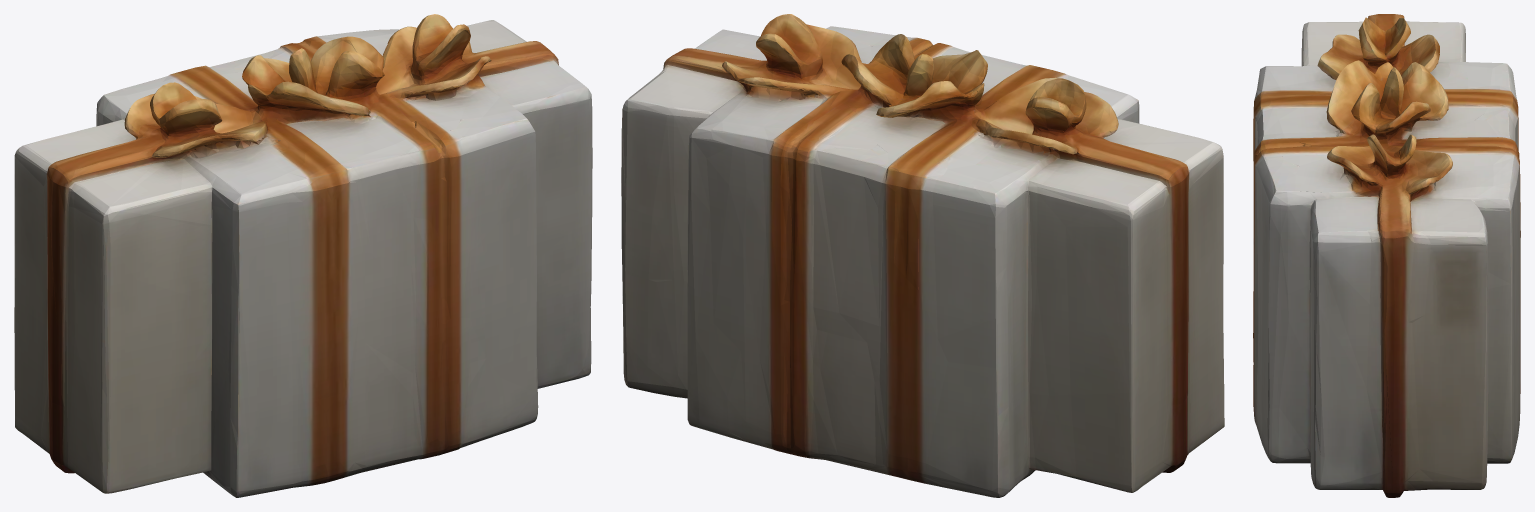
3 views of the same model, side by side, from view 1: azimuth 30°, elevation 25°; view 2: azimuth 150°, elevation 25°; view 3: azimuth 270°, elevation 25° (orthographic). The views are drawn at different scales.
Visible parts, largest first — view 1: geometry_0; view 2: geometry_0; view 3: geometry_0.
Part boxes in pixels (x1=…): geometry_0: x1=14, y1=14, x2=592, y2=497; geometry_0: x1=621, y1=14, x2=1224, y2=497; geometry_0: x1=1253, y1=14, x2=1520, y2=497.
Size of the model in its own units: 0.9924 by 0.7034 by 0.5105.
Materials: 1 (1 with a texture image).
